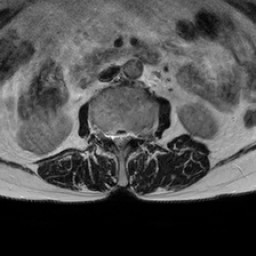CCS_normal: (116, 124, 123, 156)
LFS_normal: (132, 123, 140, 146)
LLS_normal: (123, 126, 131, 148)
RFS_stenosis: (102, 124, 110, 149)
RLS_normal: (109, 126, 116, 147)
